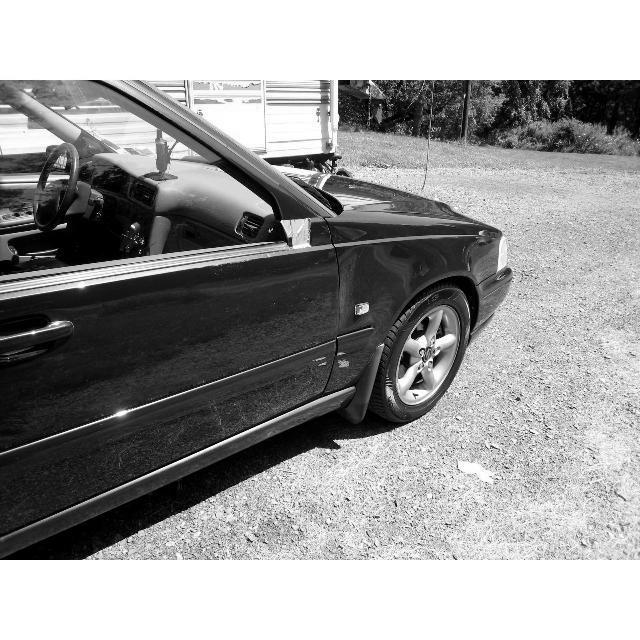fender-dent: (342, 241, 458, 325)
